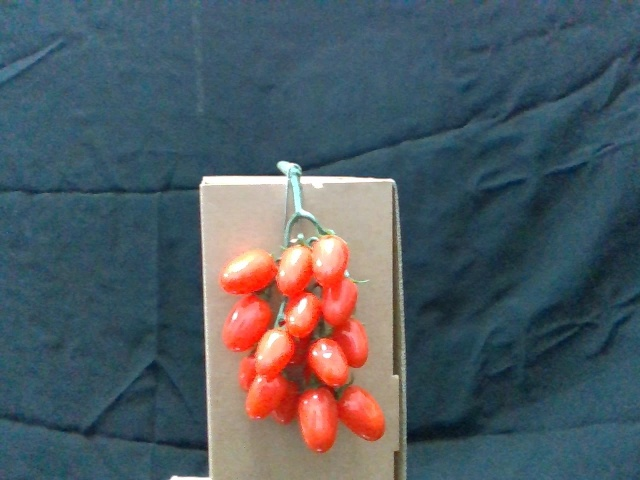tomato: (222, 297, 274, 350), (340, 384, 386, 442), (300, 387, 337, 455), (222, 251, 277, 294), (254, 329, 298, 380), (309, 336, 351, 387), (278, 243, 316, 299), (247, 372, 286, 422), (334, 316, 369, 367), (313, 236, 350, 283), (286, 292, 322, 338), (321, 280, 356, 325)
